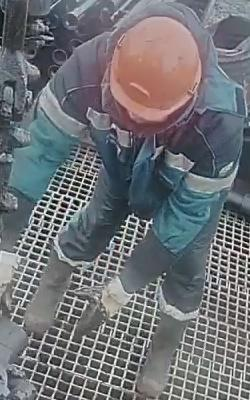gloves: (65, 271, 139, 336)
helmet: (106, 14, 208, 123)
vest: (0, 0, 248, 399), (27, 53, 248, 240)
